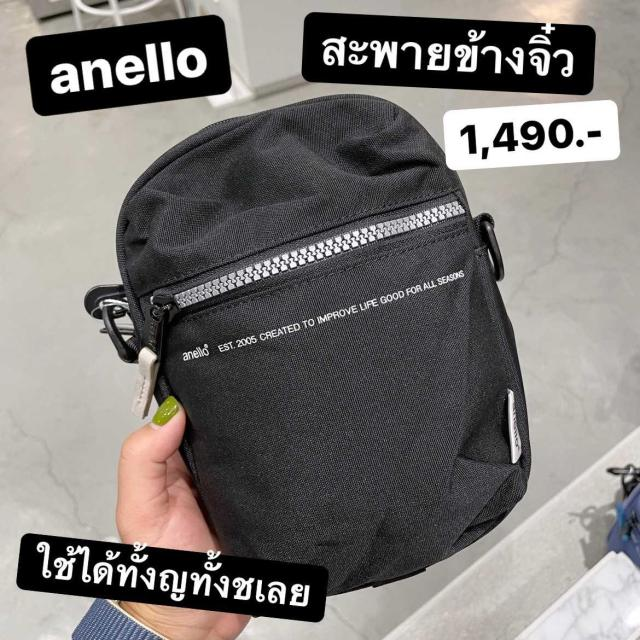Handbag: (121, 79, 555, 598)
